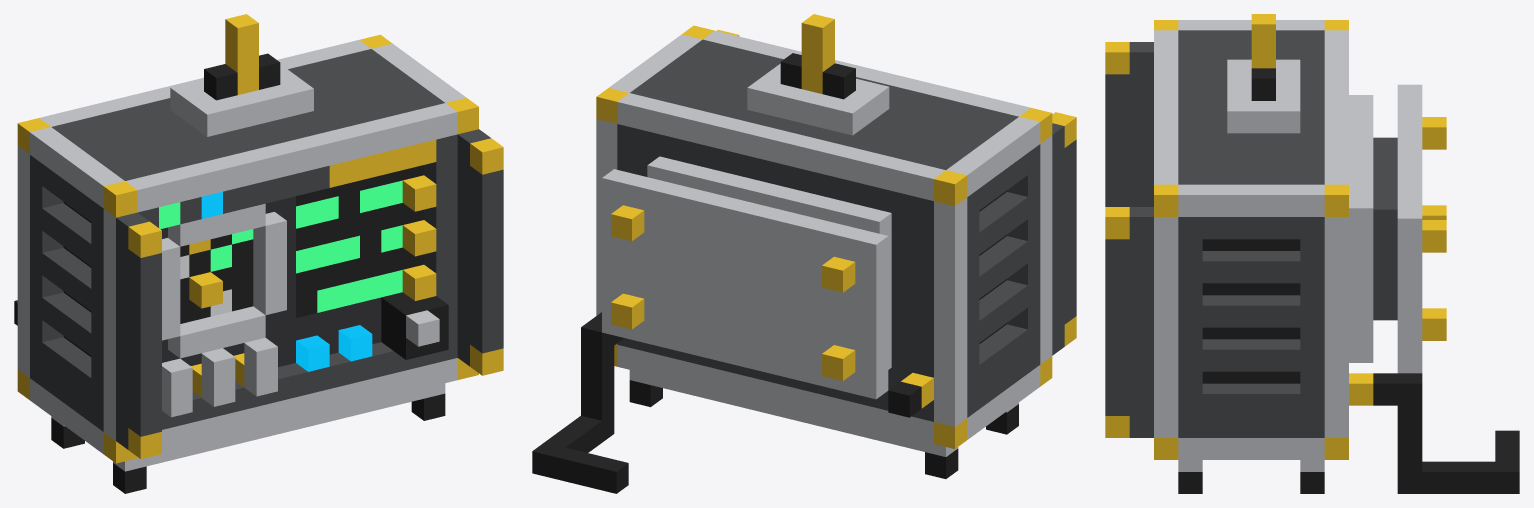
The model's file is Gyroscopic Navigation Console (Apollo 15).glb.
3 views of the same model, side by side, from view 1: azimuth 30°, elevation 25°; view 2: azimuth 150°, elevation 25°; view 3: azimuth 270°, elevation 25° (orthographic).
Visible parts, largest first — view 1: Consola_Navegacion_Voxel; view 2: Consola_Navegacion_Voxel; view 3: Consola_Navegacion_Voxel.
Boxes of the visible parts, box(x1,y1,x2,y2) form: Consola_Navegacion_Voxel: box(14, 14, 503, 493); Consola_Navegacion_Voxel: box(532, 14, 1076, 493); Consola_Navegacion_Voxel: box(1105, 14, 1519, 493).
Size of the model in its own units: 1.7 by 1.8 by 1.7.
